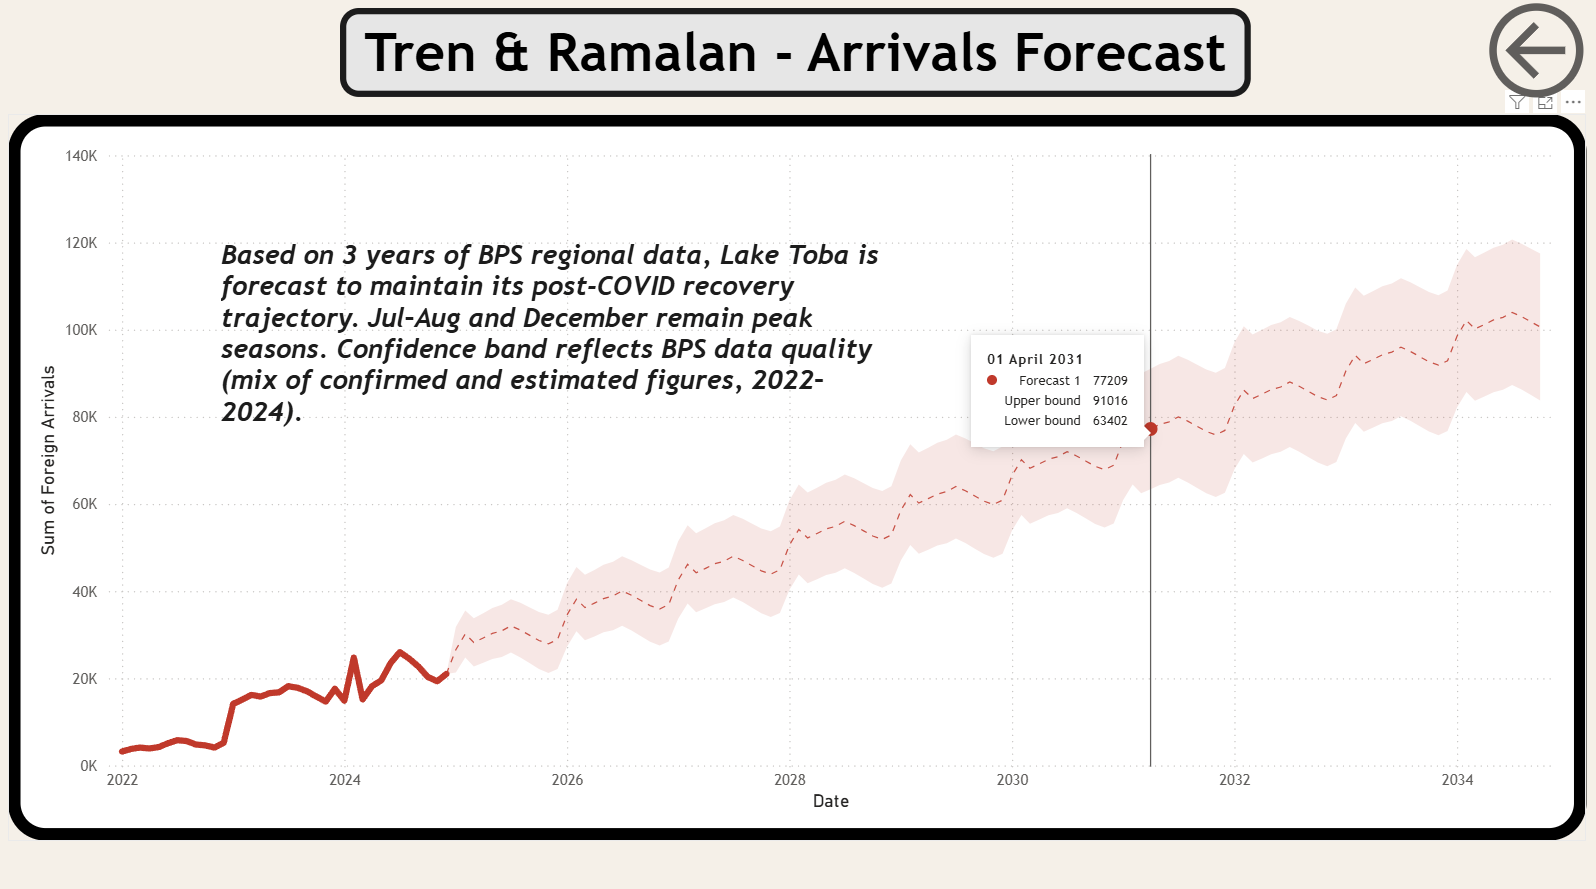

The page's visual inventory and layout, read from the dashboard file:
{"tool":"powerbi","page":{"name":"Forecast","canvas":[1280,720],"ordinal":3},"visuals":[{"type":"lineChart","title":"Tren & Ramalan — Arrivals Forecast","fields":{"Y":["Sum(Tourism_Arrivals.Foreign Arrivals)"],"Category":["Tourism_Arrivals.Date"]},"box":[10,95.7,1260,580],"z":0},{"type":"textbox","box":[180,195.7,545.7,164.3],"z":1000},{"type":"textbox","box":[275.7,11.4,727.1,71.4],"z":2000},{"type":"actionButton","box":[1185,0,95,90],"z":3000}]}

Visuals, with their boxes in screenshot pixels (x1, y1, x2, y2), scaled from the page's 1280x720 canvas onto the 1596x889 screenshot:
"Tren & Ramalan — Arrivals Forecast" lineChart: [left=12, top=118, right=1584, bottom=834]
textbox: [left=224, top=242, right=905, bottom=444]
textbox: [left=344, top=14, right=1250, bottom=102]
actionButton: [left=1478, top=0, right=1595, bottom=111]
